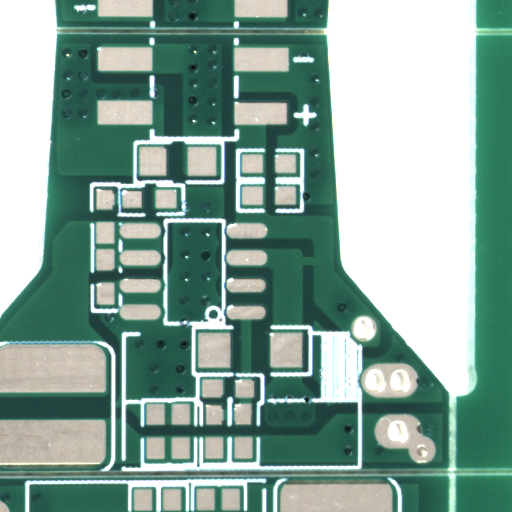Short: (307, 260, 328, 275)
